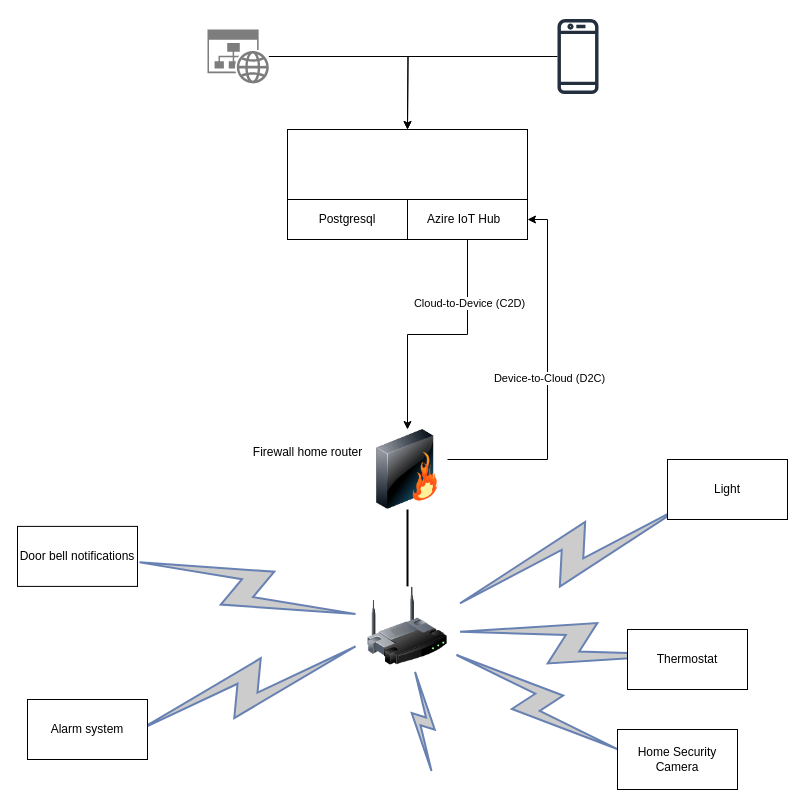
This 805x812 diagram has some shape labels left out. Each missing label, with the box of its shape:
Azure Cloud: (286, 128, 528, 240)
Portal: (207, 29, 268, 83)
